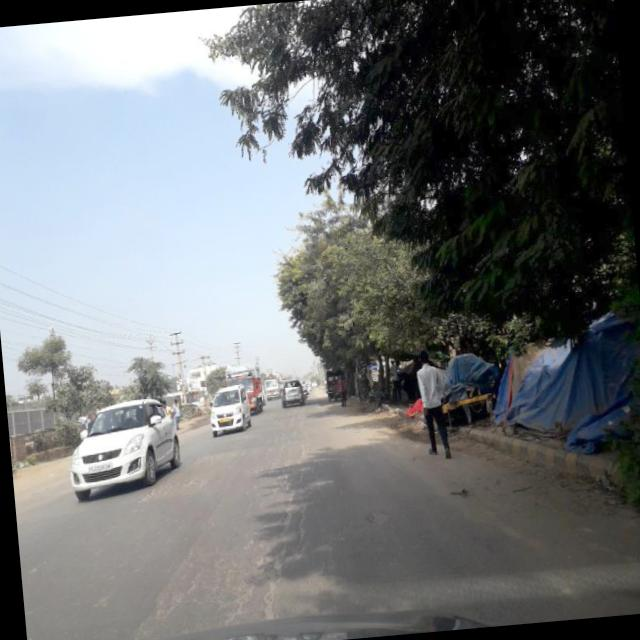crack: (138, 508, 280, 637), (158, 458, 231, 494)
pothole: (250, 436, 323, 614)
